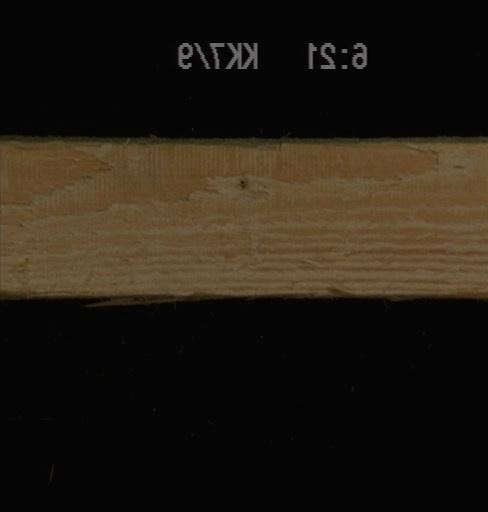small_knot: (234, 174, 251, 191)
